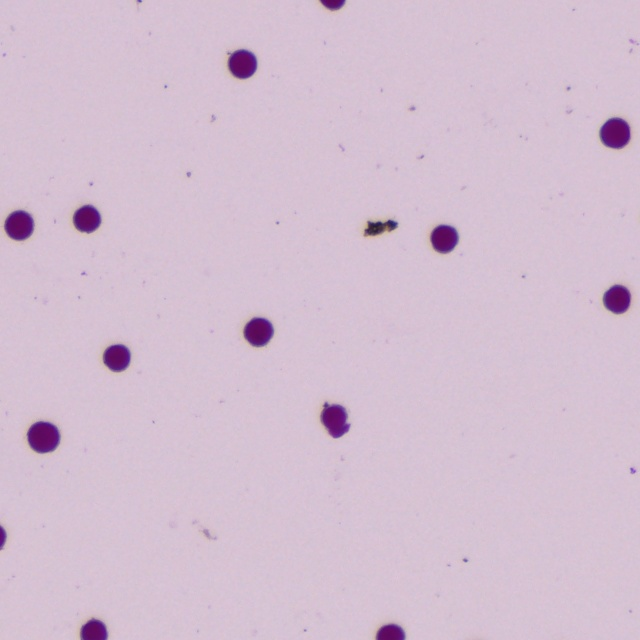viable: (28, 422, 59, 453), (322, 404, 349, 438), (601, 118, 630, 148), (5, 211, 33, 240), (245, 318, 273, 346), (229, 50, 256, 78), (604, 285, 630, 313), (74, 205, 100, 232), (431, 226, 457, 253), (104, 345, 130, 371), (82, 620, 107, 639), (377, 625, 404, 639)
